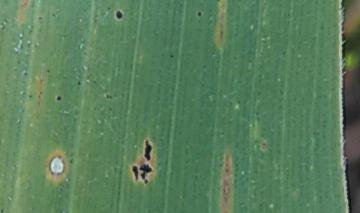tarspot: (139, 162, 154, 185), (142, 137, 154, 161), (131, 164, 139, 183), (114, 9, 124, 21), (104, 93, 115, 100), (196, 10, 203, 19), (54, 95, 63, 102), (37, 91, 44, 100), (260, 141, 267, 150), (44, 67, 52, 74), (21, 70, 29, 77), (168, 53, 175, 60), (105, 5, 112, 12), (76, 80, 82, 86), (37, 15, 43, 21), (27, 94, 33, 100)
